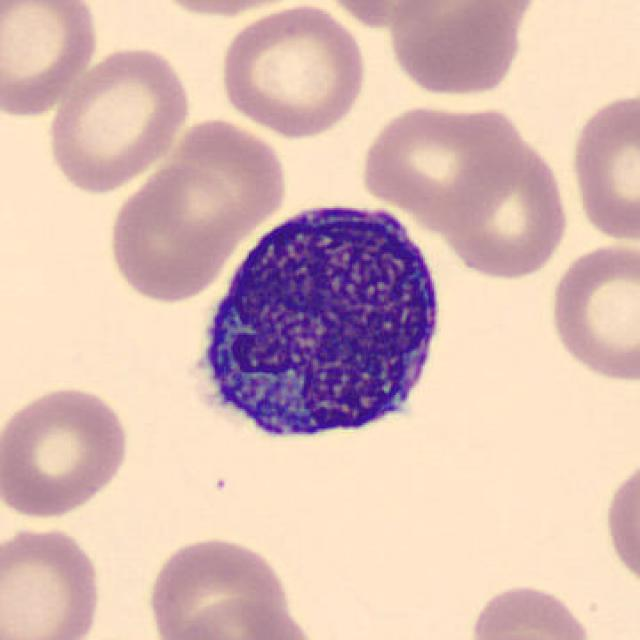Monocyte: (178, 189, 455, 460)
RBC: (43, 42, 194, 196), (358, 97, 524, 229), (215, 2, 370, 139), (438, 127, 572, 282), (105, 159, 240, 305), (0, 381, 135, 522), (156, 115, 290, 245), (144, 530, 295, 640), (544, 236, 638, 386), (384, 0, 526, 99), (0, 522, 107, 640), (0, 0, 103, 120), (566, 88, 638, 245), (466, 580, 597, 640), (178, 596, 318, 640), (601, 450, 640, 594), (318, 0, 455, 32), (137, 0, 322, 19)
